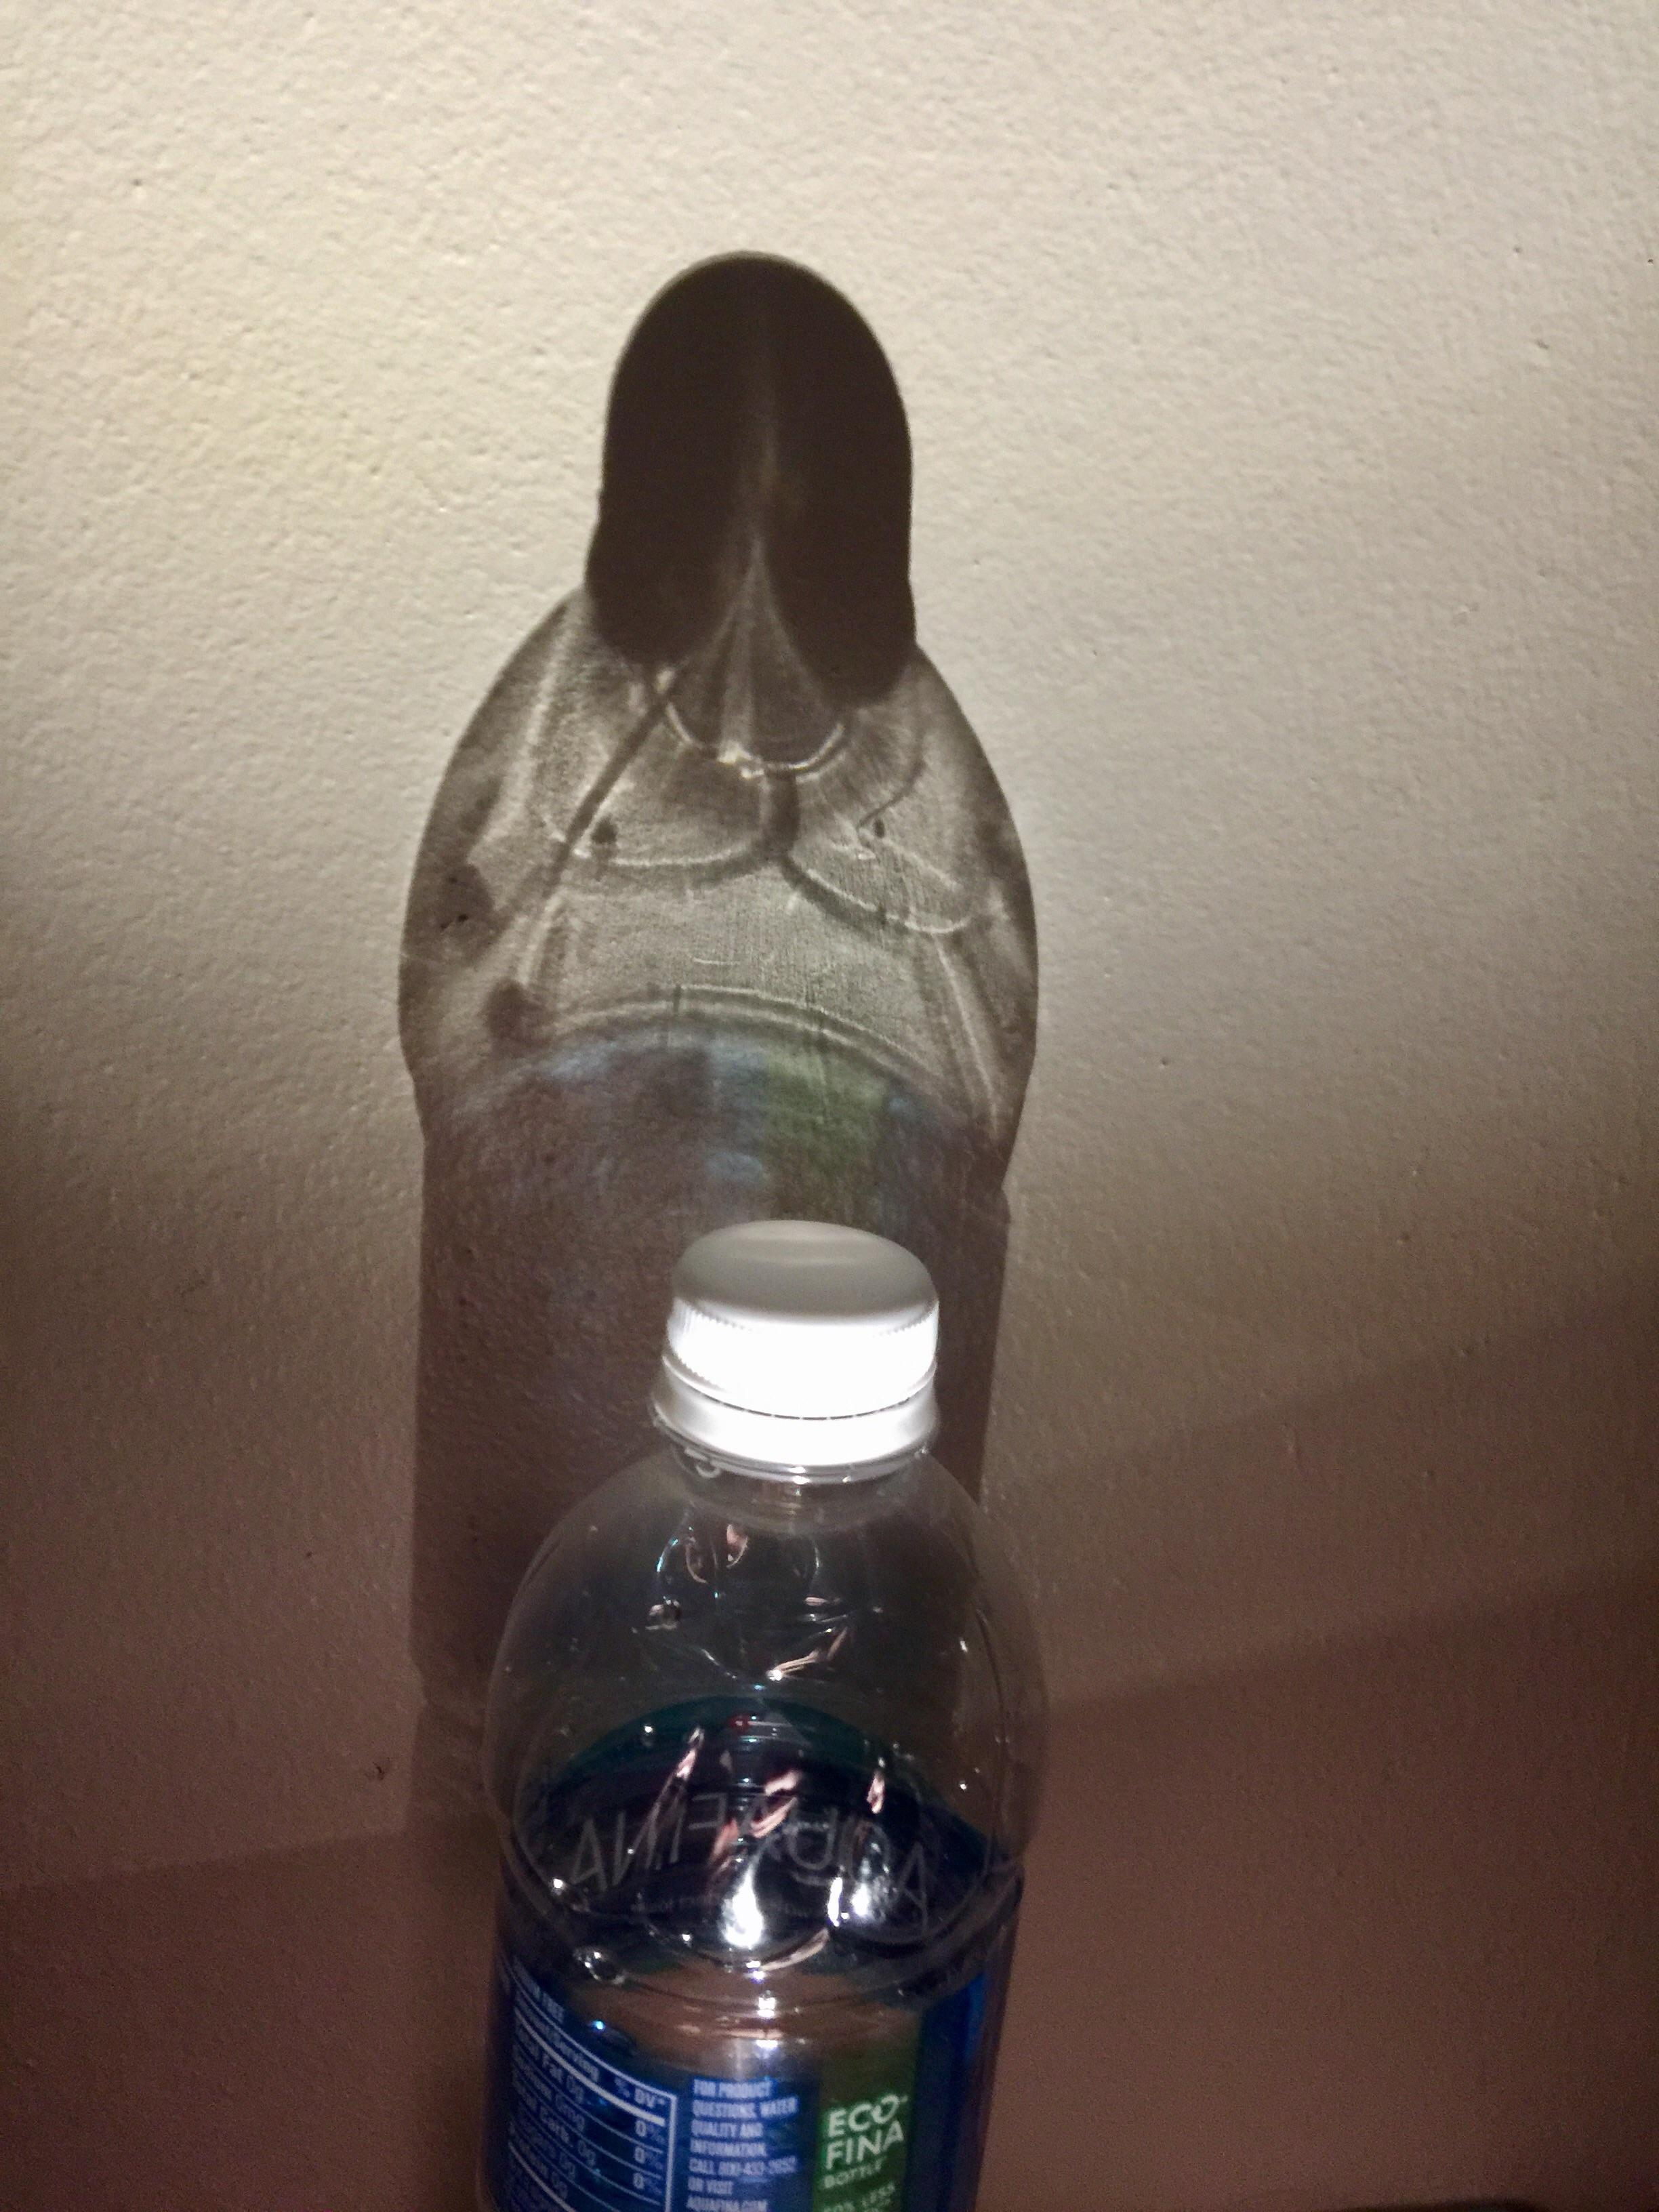plastic_bottle: (460, 1205, 1049, 2212)
